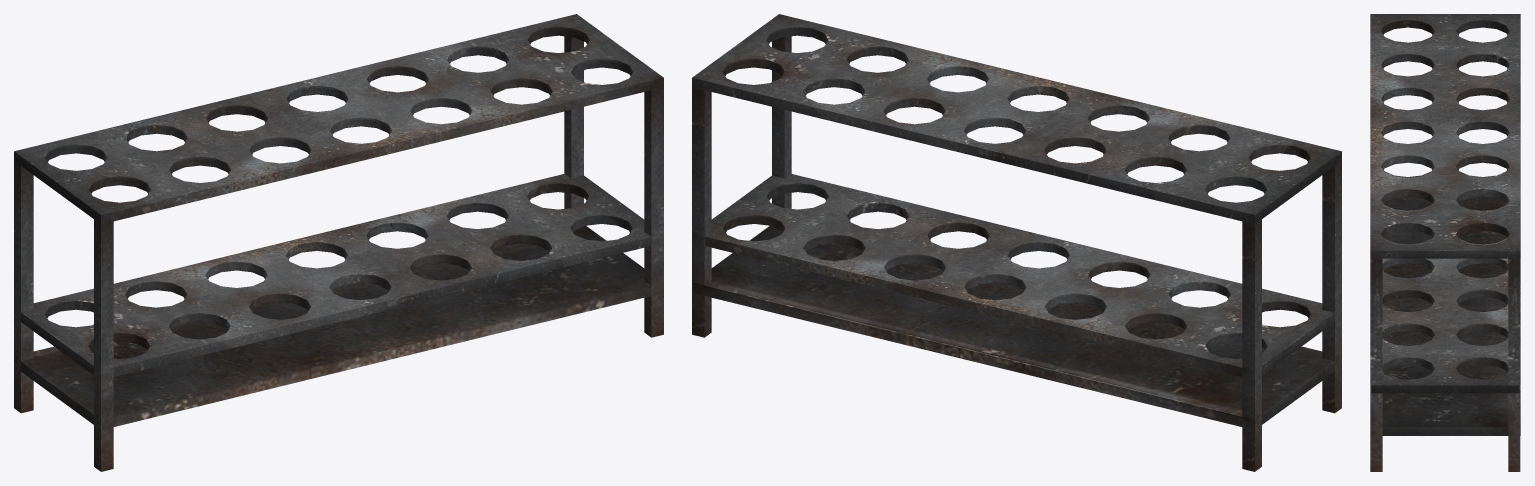
File: rack.DAE
The picture shows the model from 3 angles, left to right: view 1: azimuth 30°, elevation 25°; view 2: azimuth 150°, elevation 25°; view 3: azimuth 270°, elevation 25°; orthographic projection. The views are drawn at different scales.
Parts seen in each view (by area): view 1: rack; view 2: rack; view 3: rack.
Boxes of the visible parts, <box> form: rack: <box>14,14,663,471</box>; rack: <box>692,14,1341,471</box>; rack: <box>1370,14,1520,471</box>.
Size of the model in its own units: 18.08 by 4.84 by 7.89.
